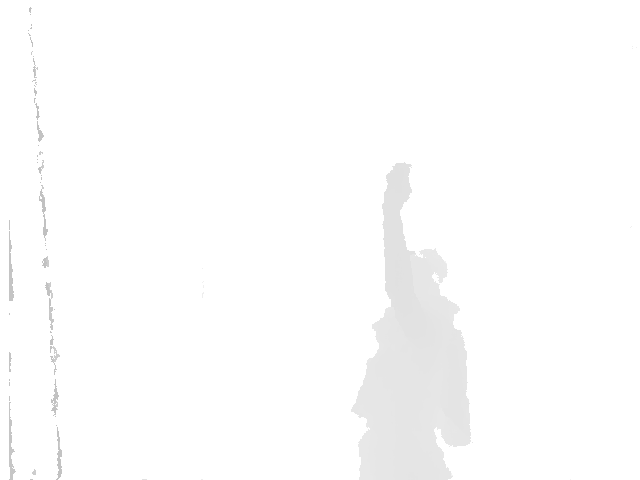hand: (381, 162, 416, 221)
head: (402, 248, 453, 324)
person: (352, 160, 472, 480)
